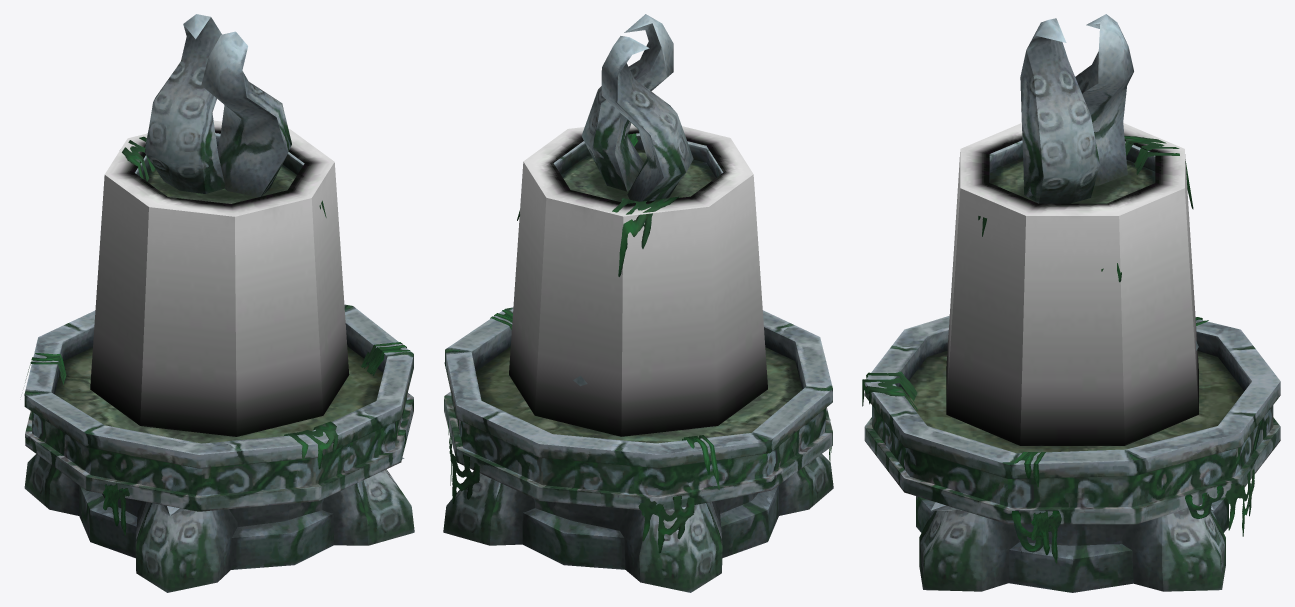
The model's file is stemple_fountain_01.fbx.
3 views of the same model, side by side, from view 1: azimuth 30°, elevation 25°; view 2: azimuth 150°, elevation 25°; view 3: azimuth 270°, elevation 25° (orthographic). The views are drawn at different scales.
Visible parts, largest first — view 1: stemple_fountain_01-0; view 2: stemple_fountain_01-0; view 3: stemple_fountain_01-0.
Boxes of the visible parts, <box> form: stemple_fountain_01-0: <box>24,14,414,592</box>; stemple_fountain_01-0: <box>443,14,833,592</box>; stemple_fountain_01-0: <box>862,14,1280,592</box>.
Bounding box in the file's own units: 4.11 × 5.82 × 4.33.
